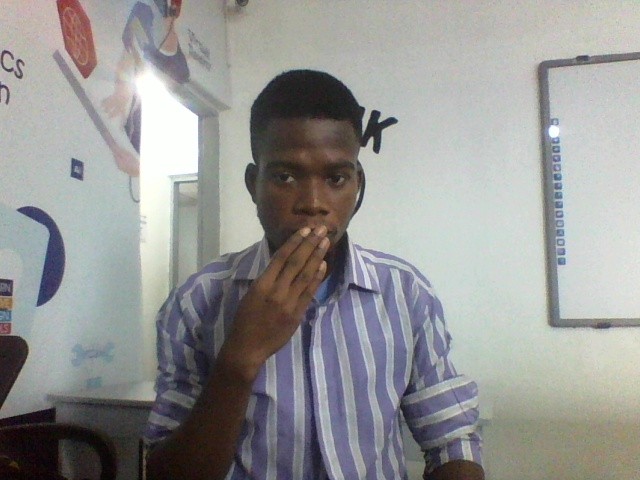thanks: (201, 223, 330, 406)
